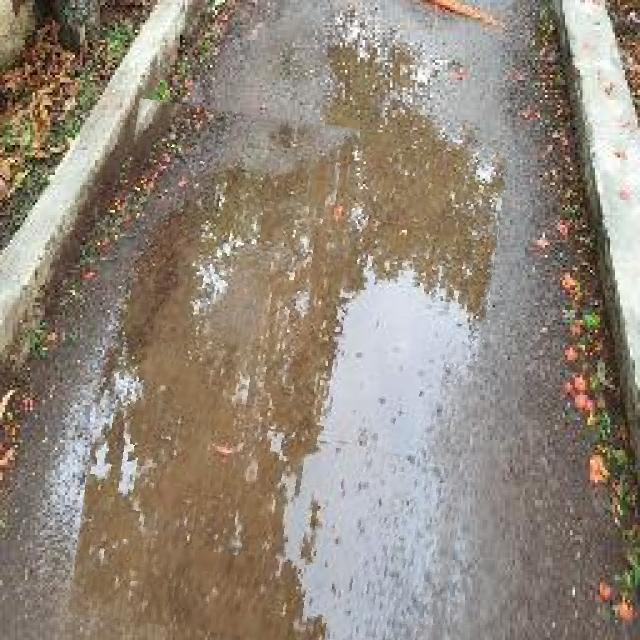puddle: (86, 110, 494, 640)
